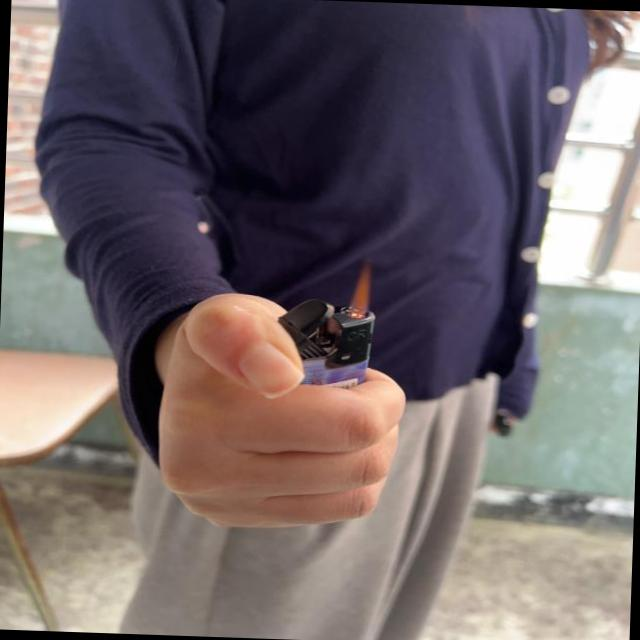Fire: (345, 261, 380, 318)
